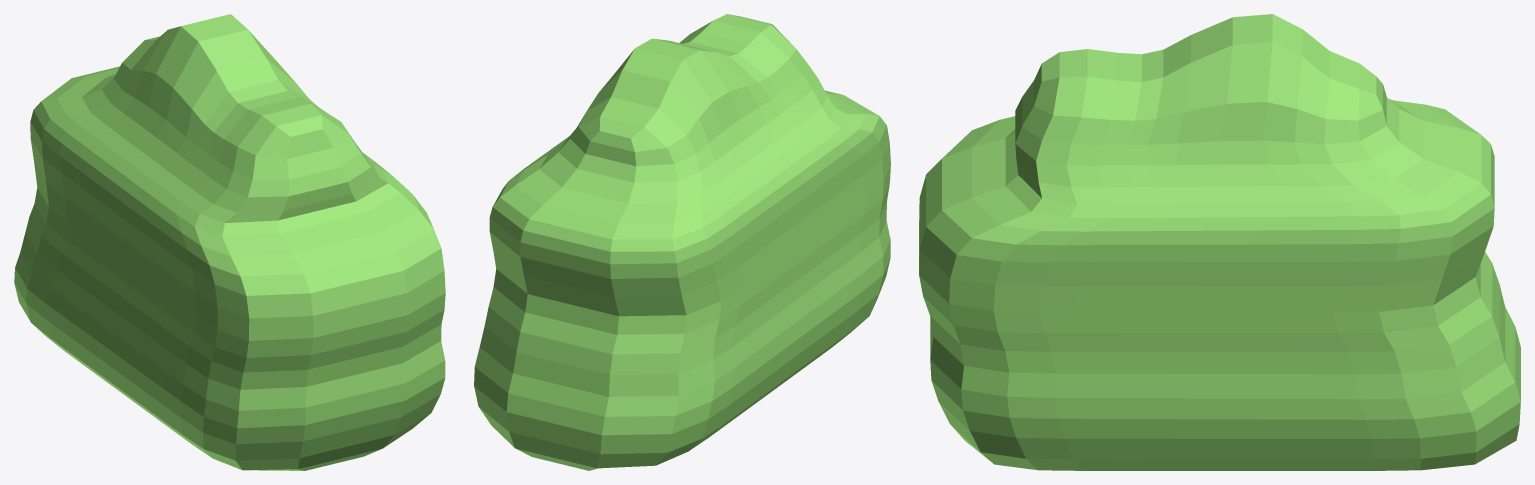
The model's file is arbusto4.fbx.
3 views of the same model, side by side, from view 1: azimuth 30°, elevation 25°; view 2: azimuth 150°, elevation 25°; view 3: azimuth 270°, elevation 25° (orthographic). The views are drawn at different scales.
Parts seen in each view (by area): view 1: Cubo.001; view 2: Cubo.001; view 3: Cubo.001.
Boxes of the visible parts, left/top/right/bottom form: Cubo.001: left=14, top=14, right=445, bottom=470; Cubo.001: left=474, top=14, right=890, bottom=470; Cubo.001: left=919, top=14, right=1520, bottom=470.
Bounding box in the file's own units: 93.87 × 133 × 181.
